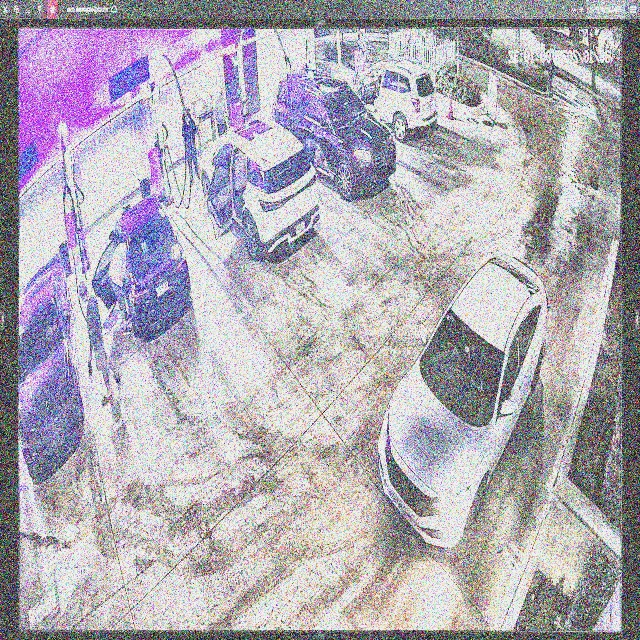Car: (375, 254, 548, 549), (200, 115, 320, 259), (272, 71, 393, 202), (93, 194, 189, 334)
